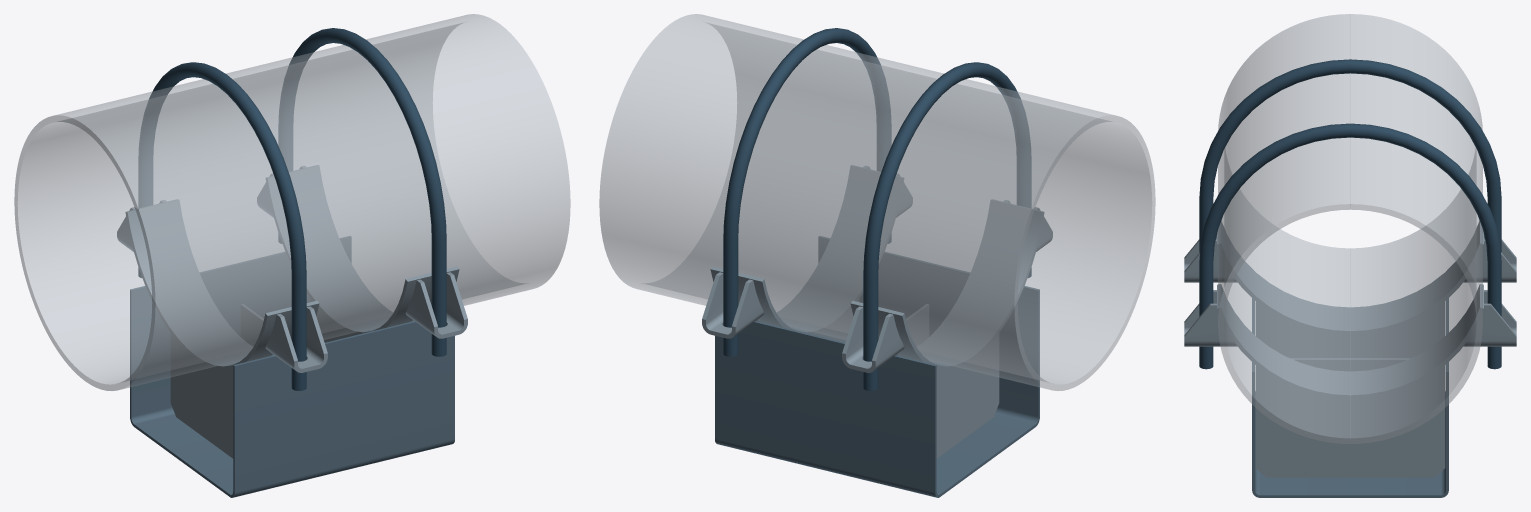
File: TS-626.00.000-049-opora-dn377-H150-L340.glb
3 renders of one model, left to right at view 1: azimuth 30°, elevation 25°; view 2: azimuth 150°, elevation 25°; view 3: azimuth 270°, elevation 25°, orthographic. The views are drawn at different scales.
Parts seen in each view (by area): view 1: truba, skoba_0, podushka_4, podushka_5, homut_0, homut_1, rebro4_1, ushko_9, ushko_7, rebro5_3; view 2: truba, skoba_0, podushka_4, podushka_5, homut_0, homut_1, rebro4_1, ushko_8, ushko_6, rebro5_3; view 3: truba, rebro4_2, homut_1, podushka_5, podushka_4, homut_0, rebro4_1, skoba_0, ushko_8, ushko_9, rebro5_3, ushko_6 (+1 smaller).
Boxes of the visible parts, <box> form: truba: <box>14,14,570,390</box>; skoba_0: <box>130,236,454,497</box>; podushka_4: <box>125,199,319,370</box>; podushka_5: <box>266,165,459,335</box>; homut_0: <box>138,62,306,390</box>; homut_1: <box>278,28,446,356</box>; rebro4_1: <box>170,334,273,458</box>; ushko_9: <box>405,272,467,338</box>; ushko_7: <box>265,306,327,372</box>; rebro5_3: <box>241,304,263,345</box>; truba: <box>599,14,1155,390</box>; skoba_0: <box>715,236,1039,497</box>; podushka_4: <box>850,199,1044,370</box>; podushka_5: <box>710,165,903,335</box>; homut_0: <box>863,62,1031,390</box>; homut_1: <box>723,28,891,356</box>; rebro4_1: <box>896,334,999,458</box>; ushko_8: <box>702,272,764,338</box>; ushko_6: <box>842,306,904,372</box>; rebro5_3: <box>906,304,928,345</box>; truba: <box>1218,14,1482,443</box>; rebro4_2: <box>1255,365,1445,477</box>; homut_1: <box>1199,123,1501,369</box>; podushka_5: <box>1217,284,1483,398</box>; podushka_4: <box>1217,221,1483,334</box>; homut_0: <box>1199,59,1501,252</box>; rebro4_1: <box>1255,301,1445,358</box>; skoba_0: <box>1252,298,1448,497</box>; ushko_8: <box>1463,290,1516,346</box>; ushko_9: <box>1184,290,1237,346</box>; rebro5_3: <box>1291,358,1409,371</box>; ushko_6: <box>1463,235,1516,282</box>.
Size of the model in its own units: 640 by 558 by 473.
